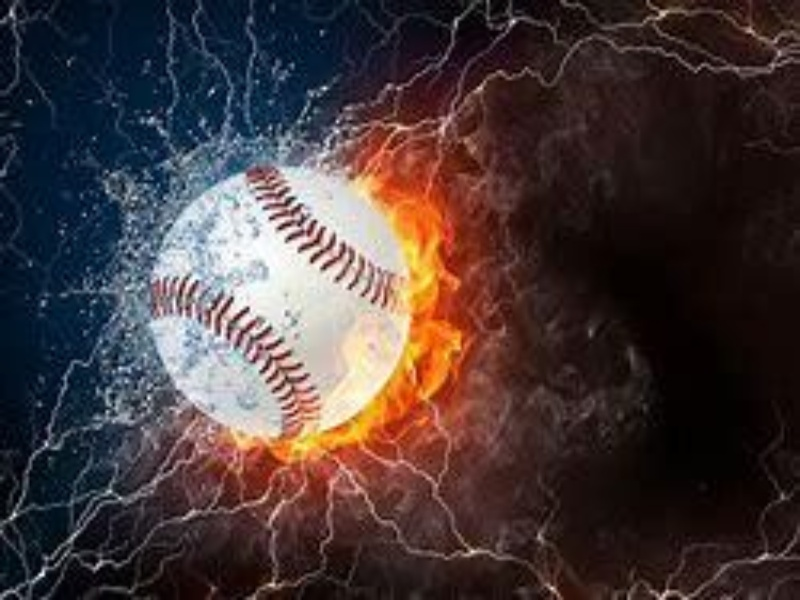baseball: (148, 156, 416, 447)
